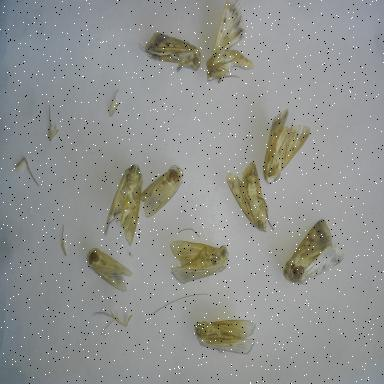abw: (201, 2, 260, 86), (280, 216, 346, 288), (224, 157, 280, 239), (99, 156, 147, 250), (261, 106, 313, 189), (134, 24, 204, 80), (168, 236, 232, 288), (138, 160, 188, 222), (84, 242, 136, 300), (192, 314, 260, 358)
